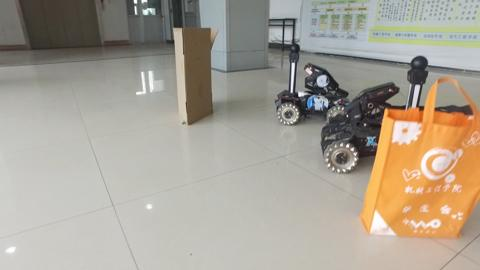box: (171, 27, 214, 121)
chariot: (322, 52, 425, 173), (273, 43, 349, 127)
